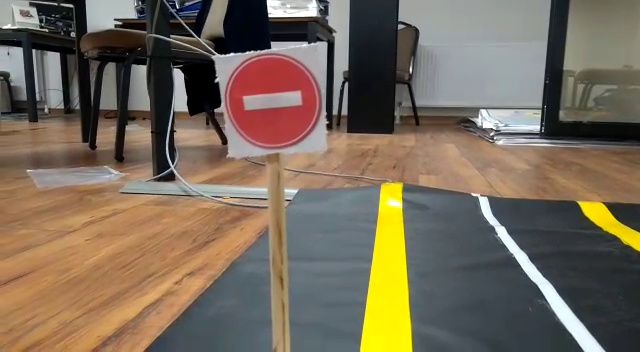girisi_olmayan_yol: (220, 49, 325, 153)
